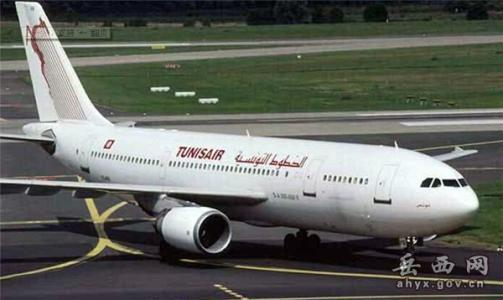airplane: (3, 1, 483, 251)
